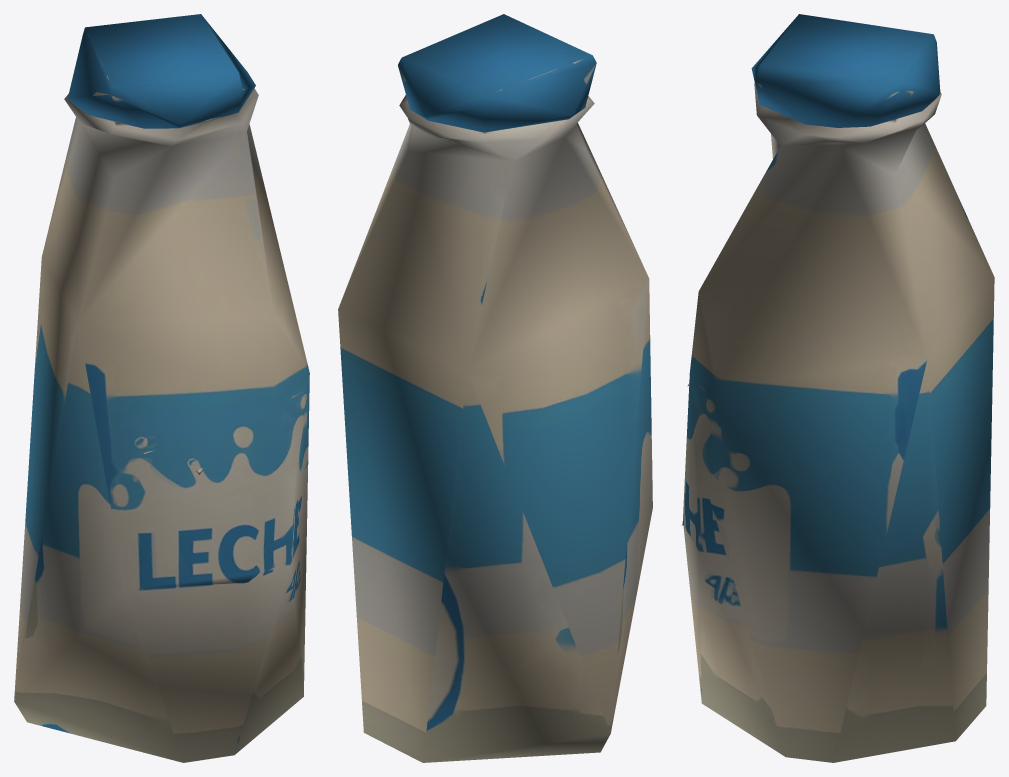
File: milk.glb
The picture shows the model from 3 angles, left to right: view 1: azimuth 30°, elevation 25°; view 2: azimuth 150°, elevation 25°; view 3: azimuth 270°, elevation 25°; orthographic projection.
Visible parts, largest first — view 1: tripo_node_6e084a1e; view 2: tripo_node_6e084a1e; view 3: tripo_node_6e084a1e.
Boxes of the visible parts, box(x1,y1,x2,y2) form: tripo_node_6e084a1e: box(14, 14, 309, 762); tripo_node_6e084a1e: box(338, 14, 652, 762); tripo_node_6e084a1e: box(681, 14, 994, 762).
Bounding box in the file's own units: 0.1045 × 0.2573 × 0.1114.
Materials: 1 (1 with a texture image).
